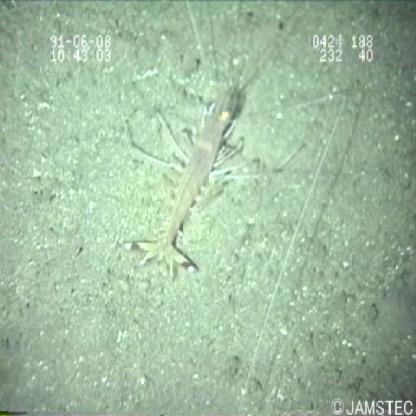Bio: (117, 7, 348, 295)
